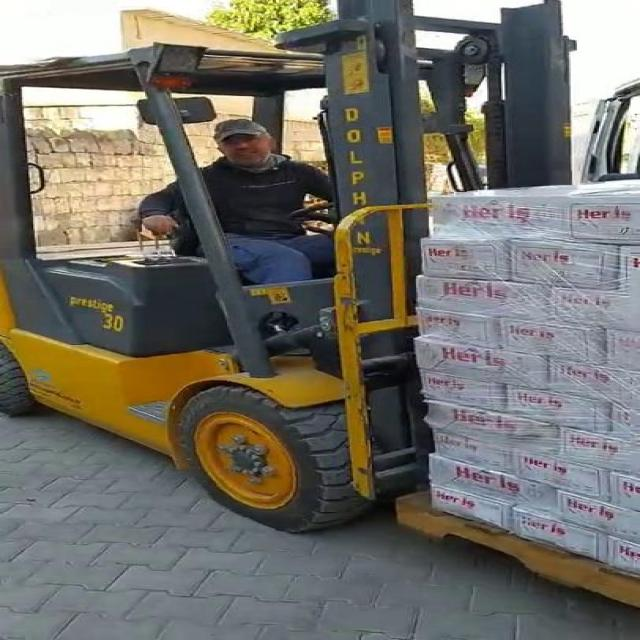box: (389, 166, 640, 596)
forklift: (3, 33, 587, 561)
person: (102, 107, 370, 317)
